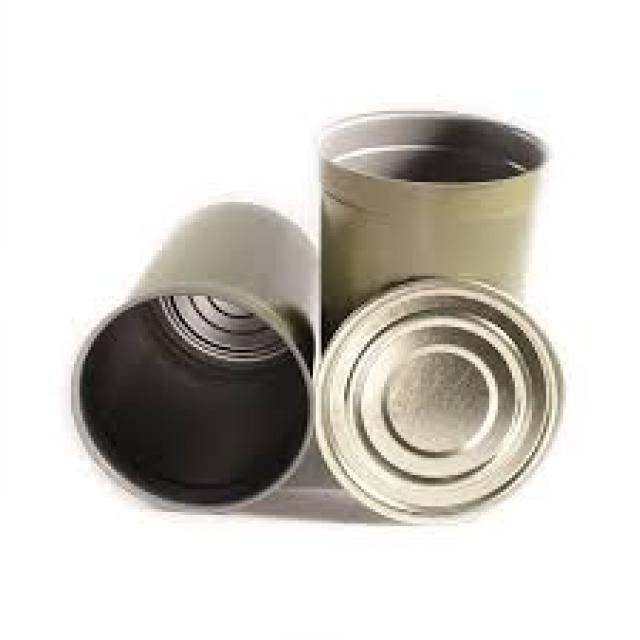metal: (66, 200, 320, 510), (313, 274, 570, 525), (320, 110, 550, 354)
